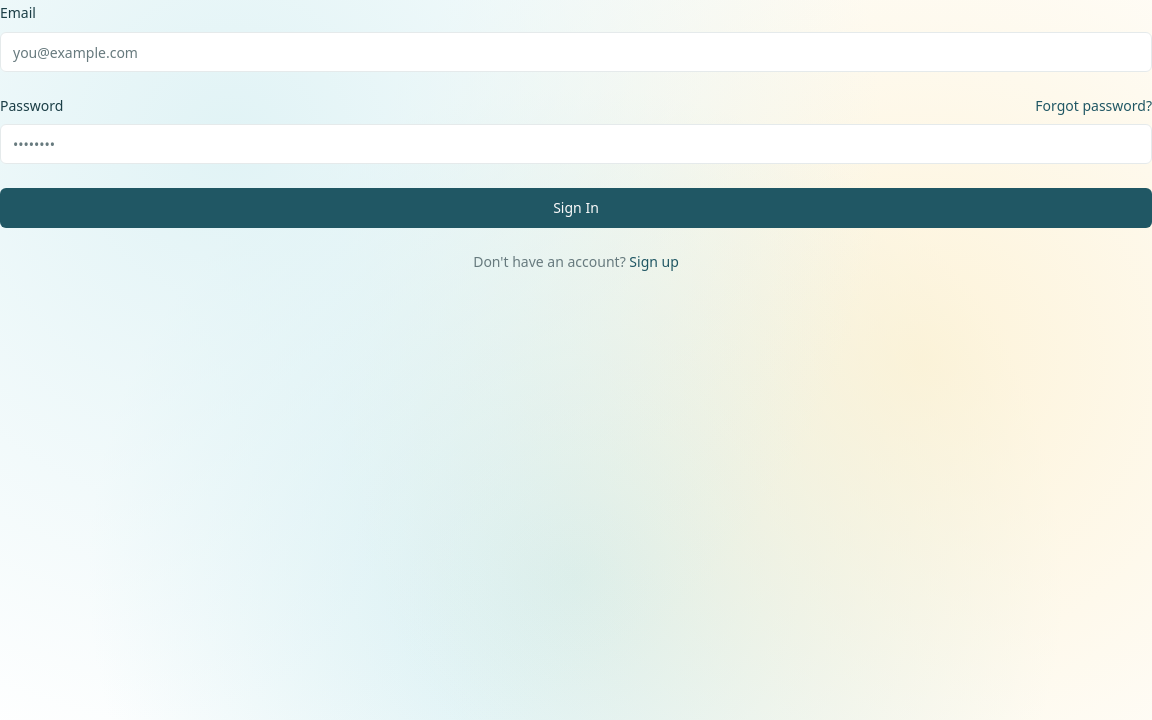
LoginForm › displays error message when login fails
Step 1. Type "test@example.com" into the field labelled "Email" → (576, 52), box [0,32,1151,72]
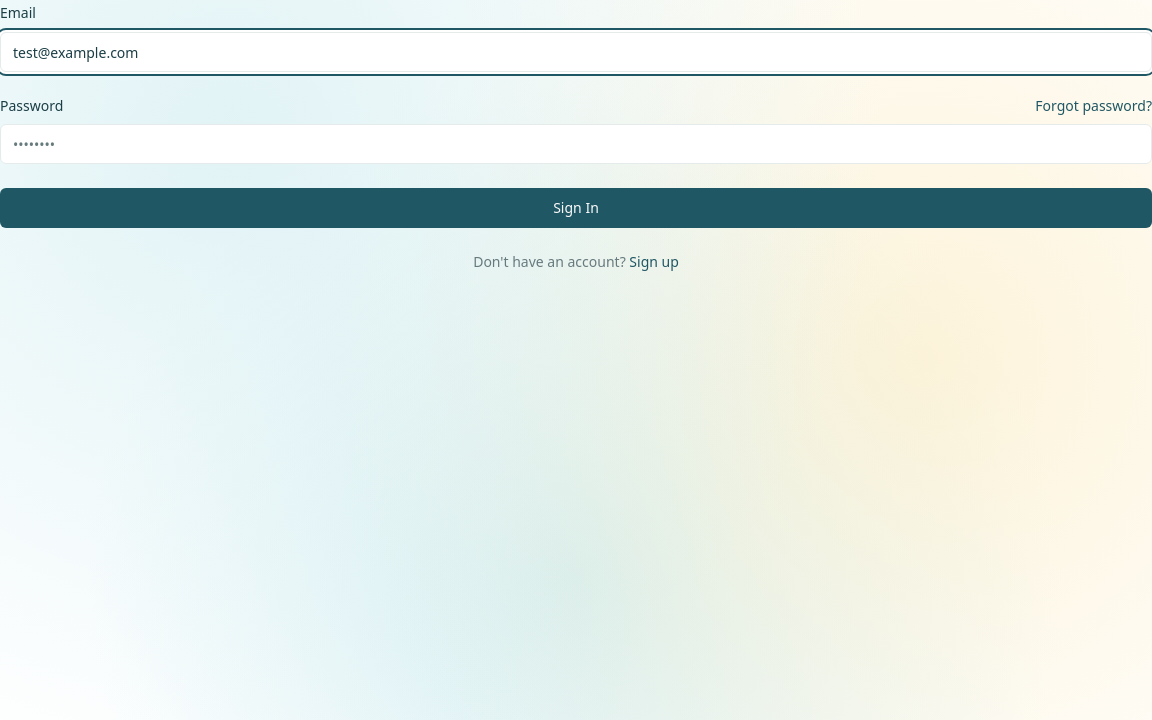
Step 2. Type "wrongpassword" into the password field labelled "Password" → (576, 144), box [0,124,1151,164]
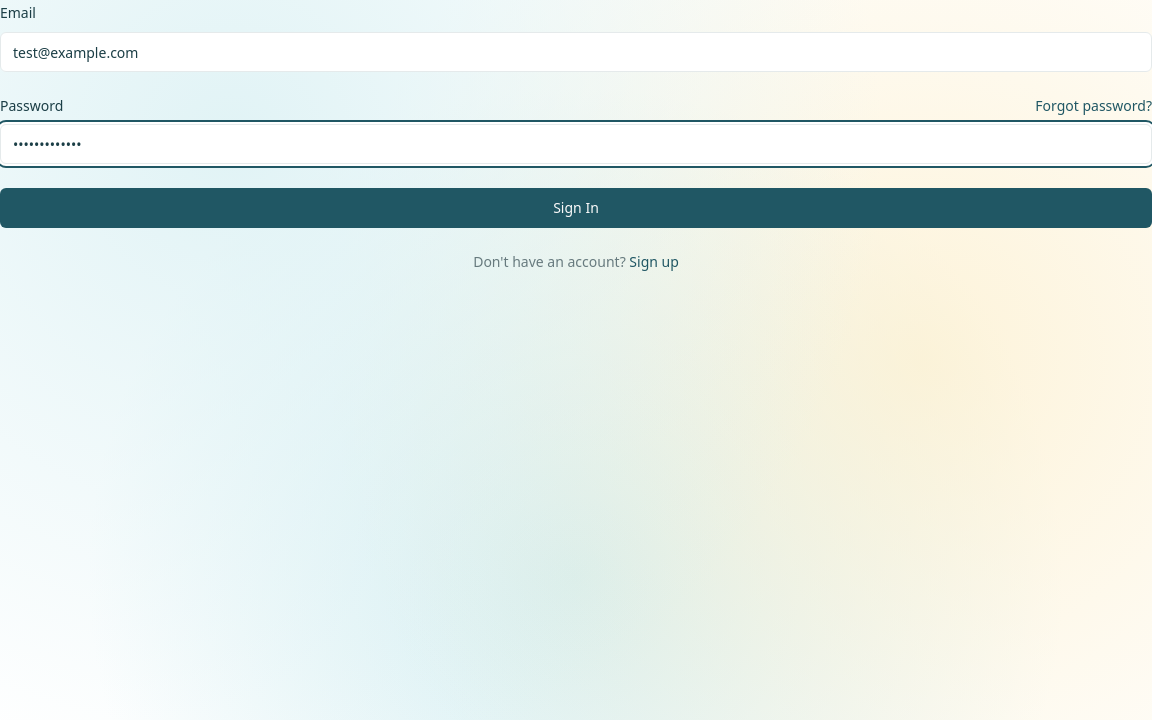
Step 3. Click the button "Sign In" → (576, 208), box [0,188,1151,228]
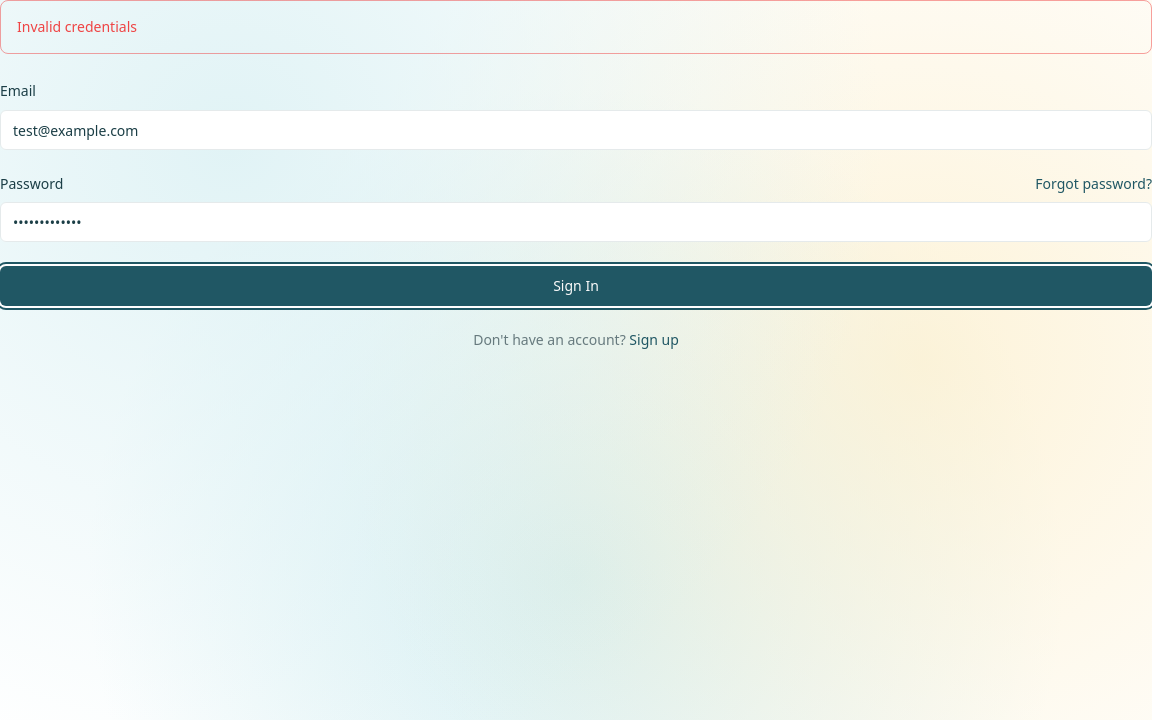
Result: the text "Invalid credentials" is shown at [17,17,137,36]
